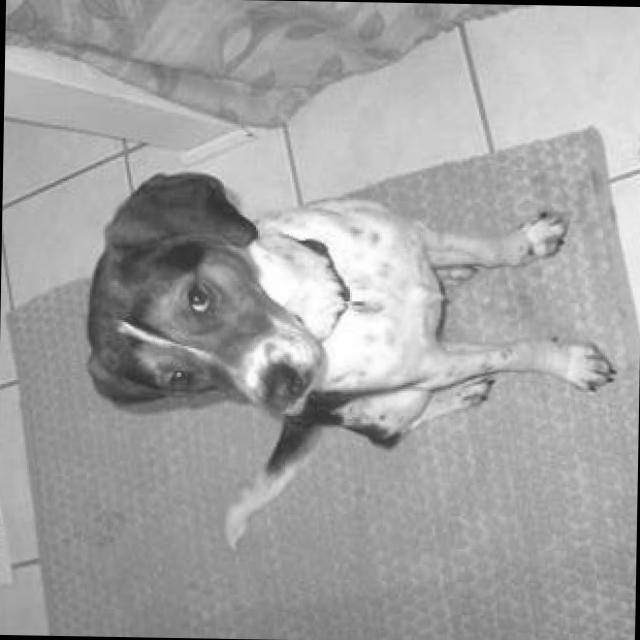sitting: (80, 160, 619, 559)
